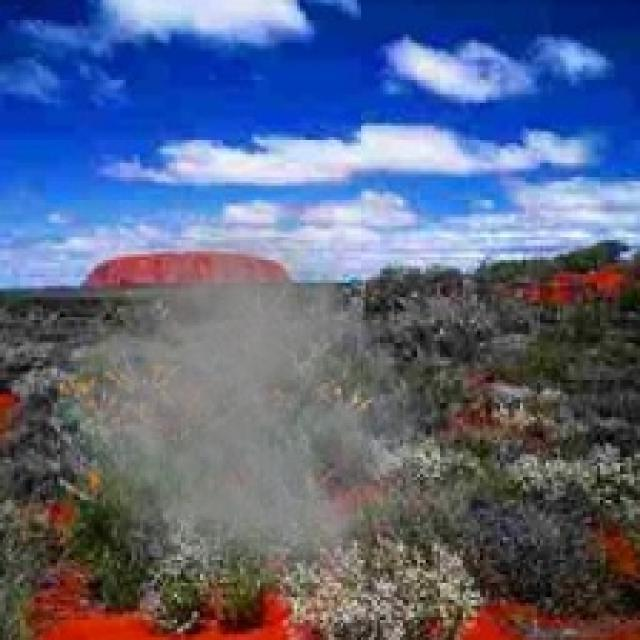smoke: (37, 183, 454, 600)
